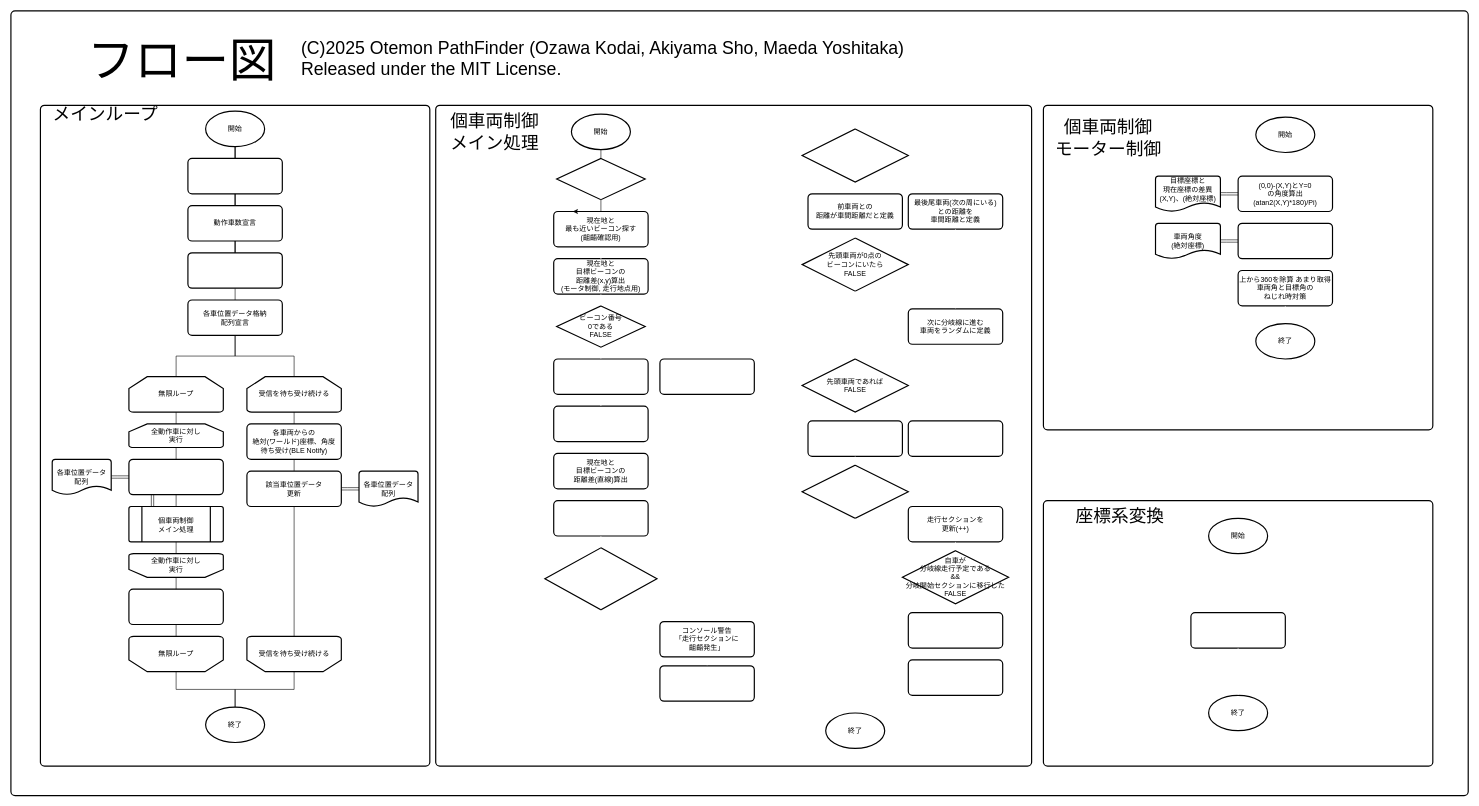
The diagram is 1479 pixels wide and 806 high, and some of its shapes have lost their labels. The box of each missing label's shape, as (x1, y1, x2, y2) in pixels:
(目標ビーコン - 1) 直前のビーコン定義: (553, 358, 648, 395)
(目標ビーコン = 直前のビーコン): (659, 358, 755, 395)
toio通信仲介 モジュールインポート (@toio/scanner): (187, 158, 283, 194)
一定ms待機: (128, 588, 224, 625)
上から現在車両角度を減算 実際に動くべき角度算出: (1237, 222, 1333, 259)
分岐線-本線変換: (907, 612, 1003, 648)
分岐線走行中 フラグ FALSE: (556, 158, 645, 200)
原点(toio座標) (x,y) + 求める位置(cm座標) * 7.26(変換比): (1190, 612, 1286, 648)
常に速度を一定に決定 (早すぎないように): (907, 420, 1003, 457)
指定台数分、車をスキャン 配列に複数toioデータ格納: (187, 252, 283, 289)
最近ビーコンが (目標||直前)と 異なる(齟齬発生) FALSE: (544, 547, 657, 610)
本線での座標 を消去: (907, 659, 1003, 696)
現在地と 直前ビーコンの 距離差(x,y)算出: (553, 405, 648, 442)
現在地と 直前ビーコンの 距離差(直線)算出: (553, 500, 648, 536)
目標ビーコンと 現在地が一定以上 近くなれば FALSE: (801, 464, 909, 519)
自車が先頭車両 であるとき (一周の内で) FALSE: (801, 128, 909, 182)
自車の車間距離に 合わせて距離を決定: (807, 420, 903, 457)
該当車位置データ 取得: (128, 458, 224, 495)
走行セクションを 最近ビーコンが直前ビーコンになるように更新(修正): (659, 665, 755, 702)
